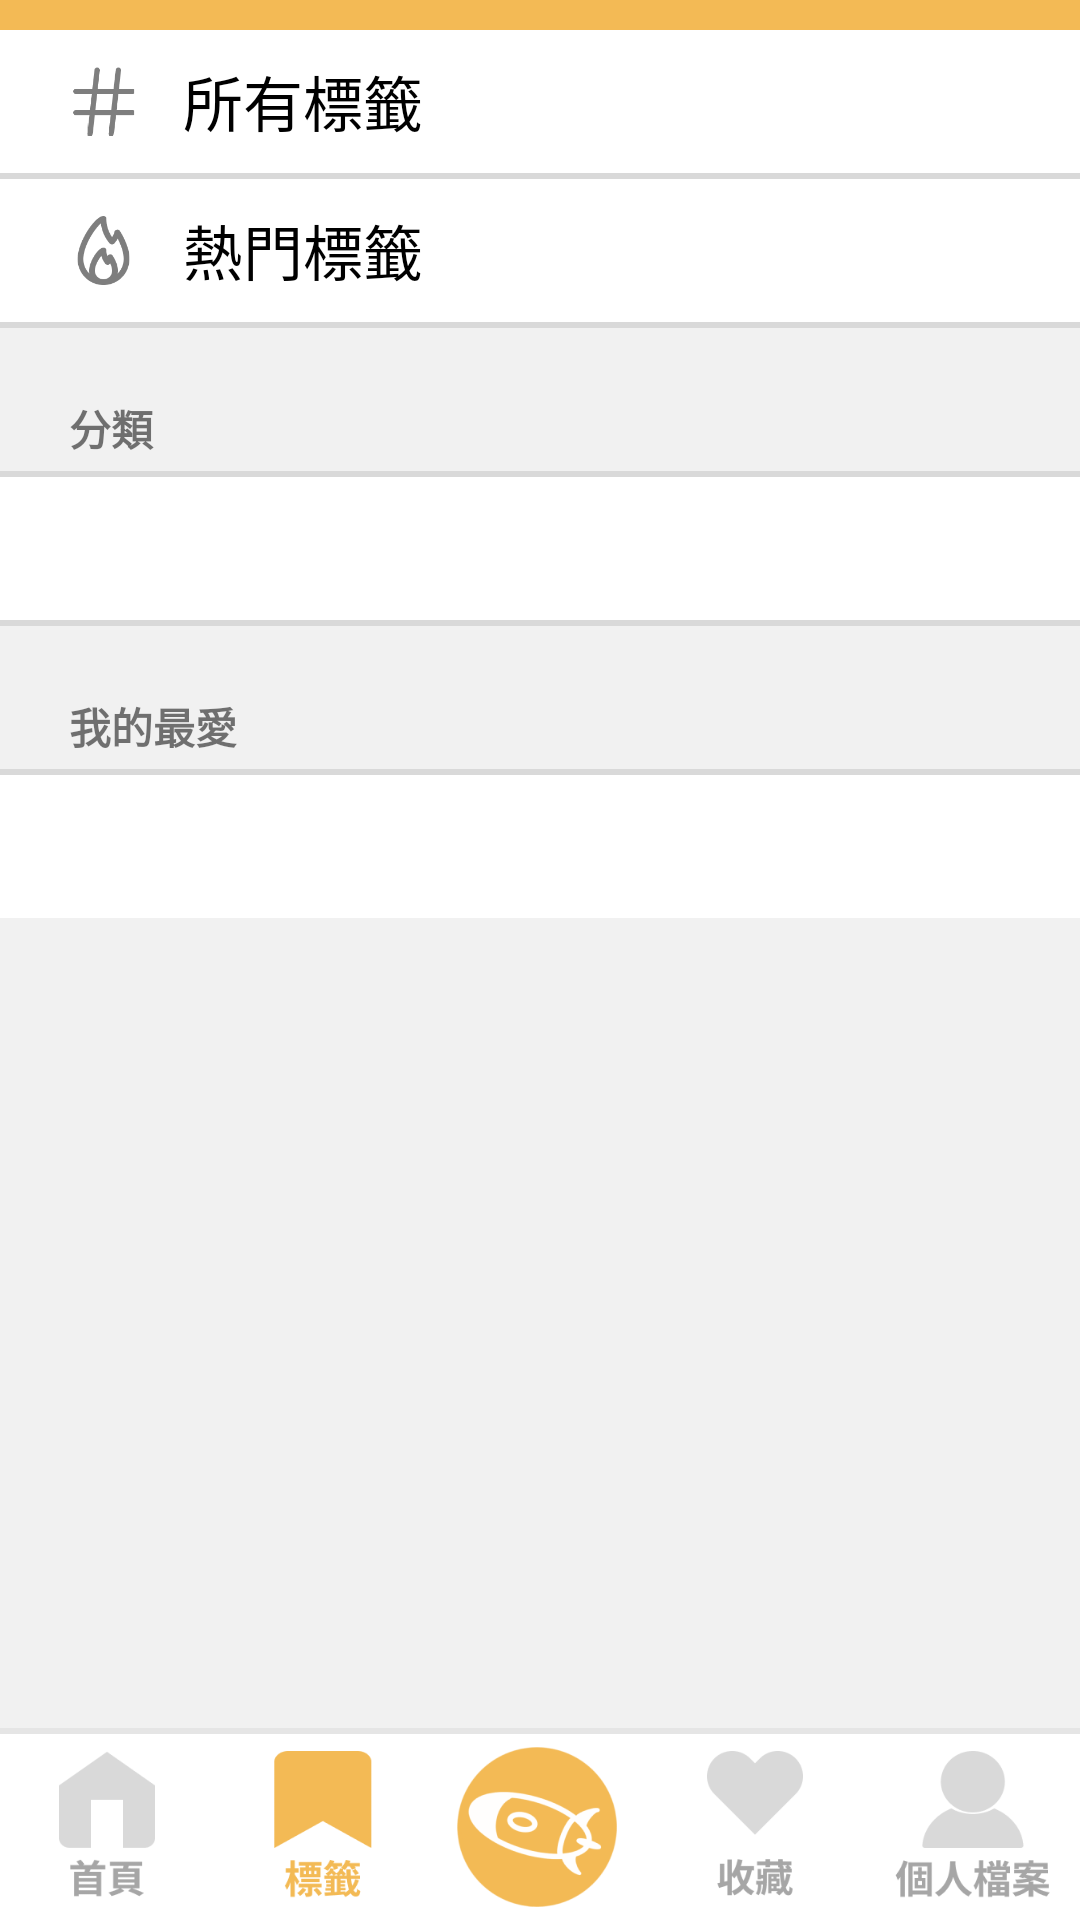

Icons on this 1080w x 1920h Android screen, each with its box as box=[x1, y1, x2, y2]:
all: box=[73, 67, 134, 136]
fire: box=[77, 216, 130, 285]
